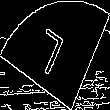L_SW: (36, 25, 74, 85)
